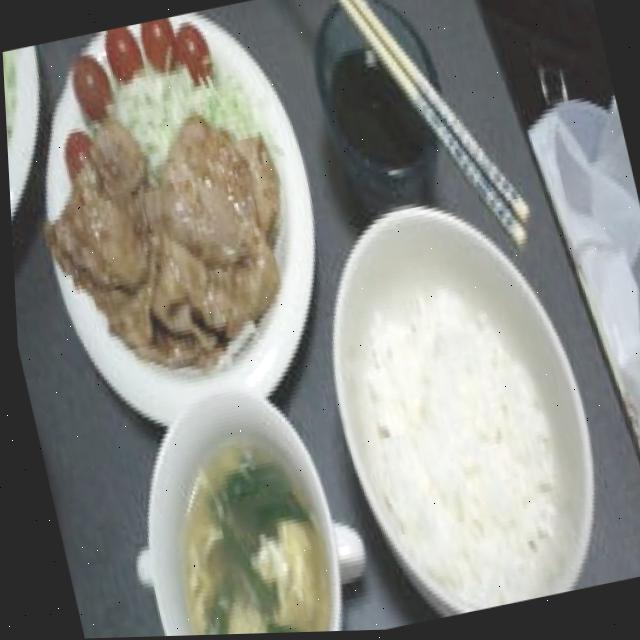汤锅炖物: (87, 347, 357, 638)
猪肉菜式: (22, 90, 319, 422)
米饭主食: (290, 183, 626, 632)
